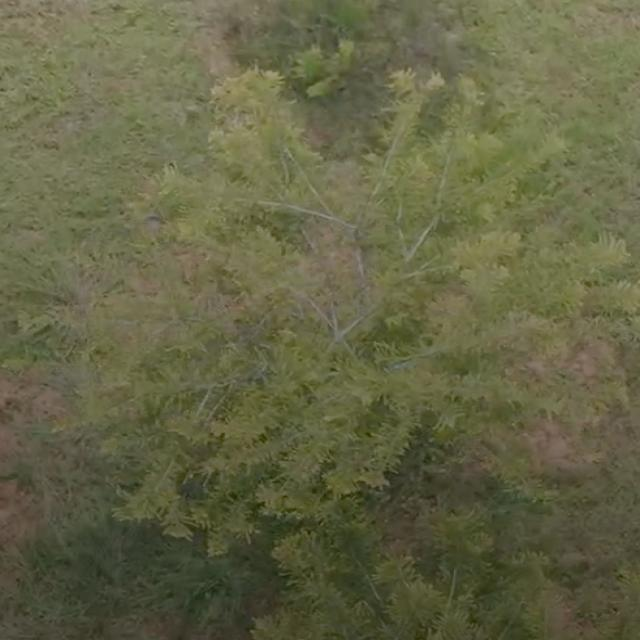notMangoTree: (71, 58, 640, 532), (233, 510, 640, 640)
